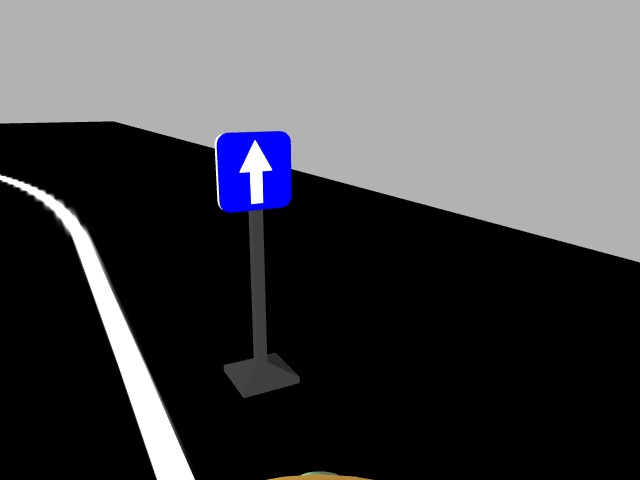OneWay: (211, 131, 294, 213)
